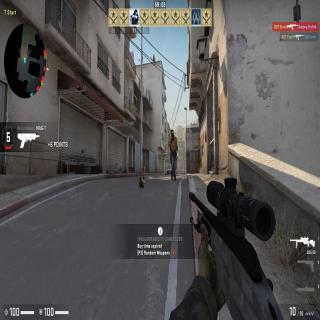T-Body: (168, 128, 179, 182)
T-Head: (171, 129, 174, 138)
